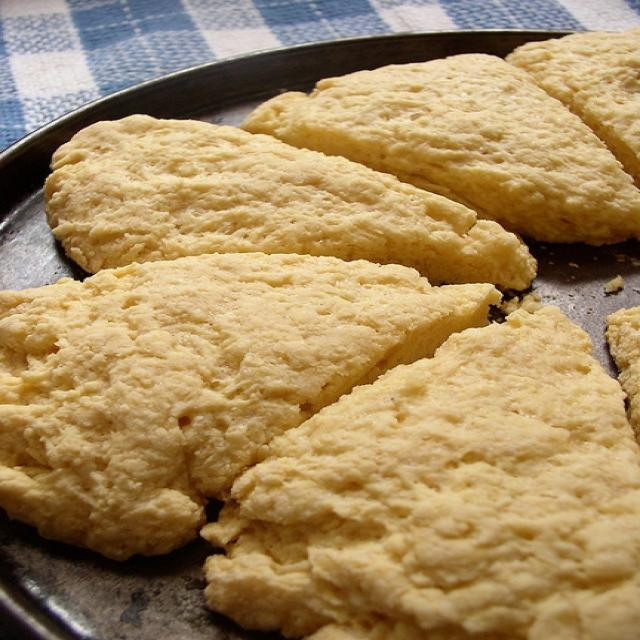面包点心: (15, 23, 631, 618)
